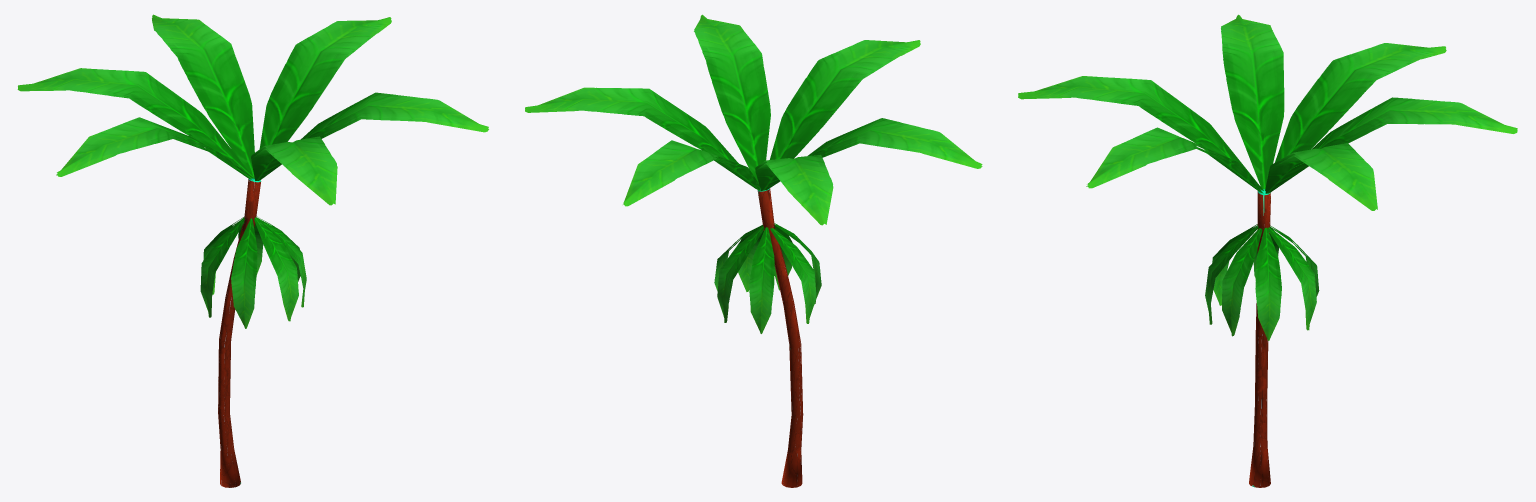
Rendered from PalmeiraMedia.dae.
The picture shows the model from 3 angles, left to right: view 1: azimuth 30°, elevation 25°; view 2: azimuth 150°, elevation 25°; view 3: azimuth 270°, elevation 25°; orthographic projection. The views are drawn at different scales.
Visible parts, largest first — view 1: Cilindro.002; view 2: Cilindro.002; view 3: Cilindro.002.
Boxes of the visible parts, bbox=[...] form: Cilindro.002: bbox=[17, 14, 488, 487]; Cilindro.002: bbox=[525, 14, 982, 487]; Cilindro.002: bbox=[1018, 14, 1517, 487].
Bounding box in the file's own units: 3.77 × 3.94 × 3.42.
